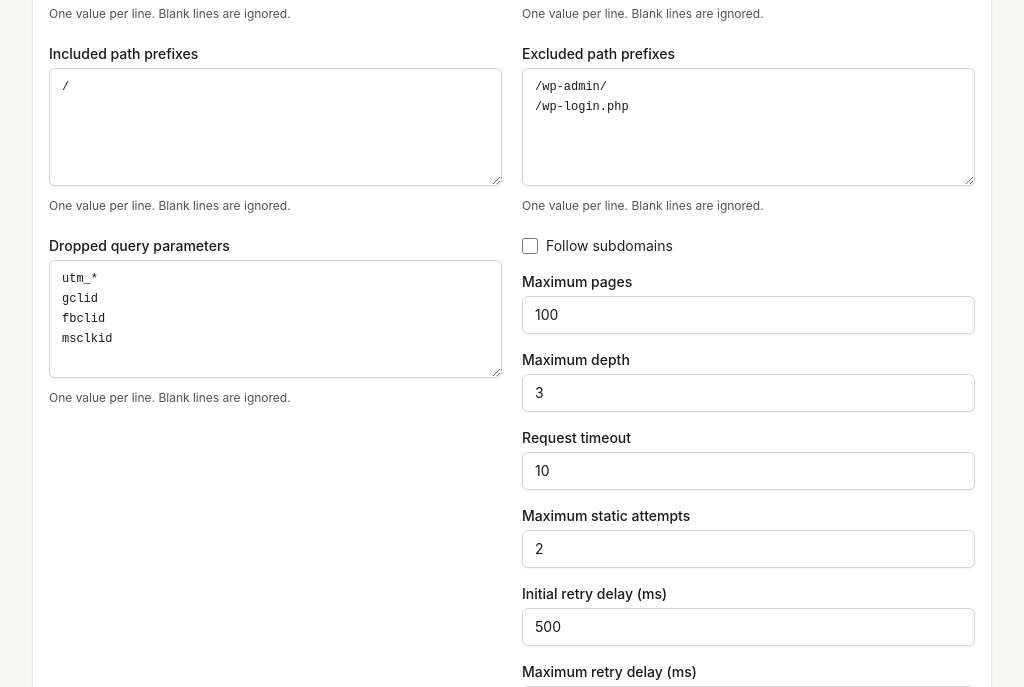
Test: saved sites workflow › blocks saving site settings with invalid numeric scope
(page scrolled)
Clear the number field labelled "Maximum pages": (748, 315) [522,296,975,334]
(page scrolled)
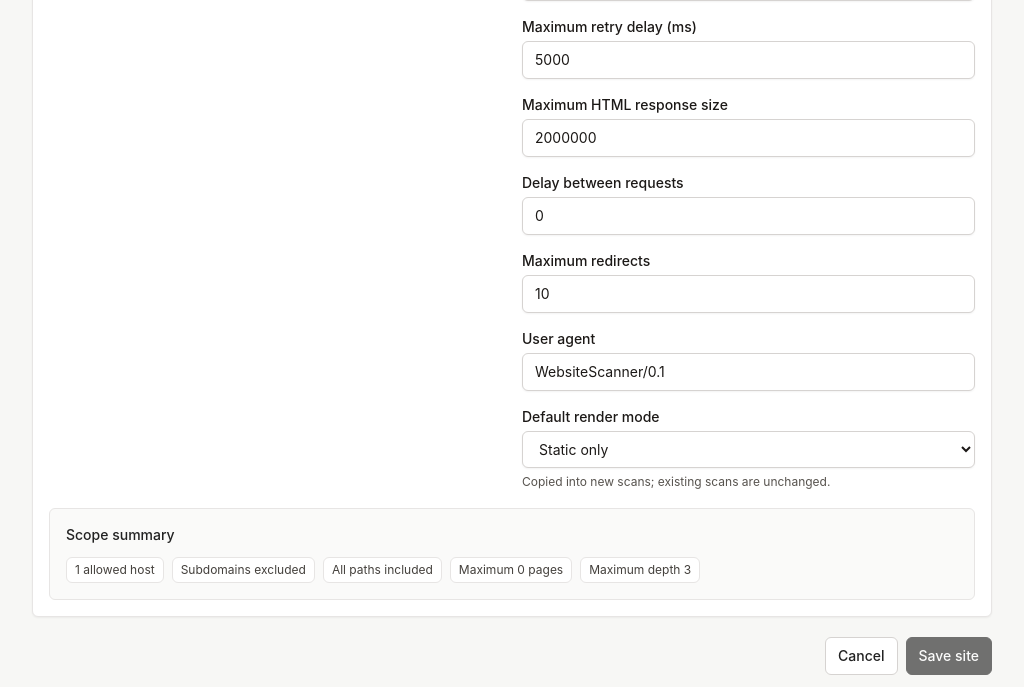
Result: the button "Save site" is disabled at [906,637,992,675]
